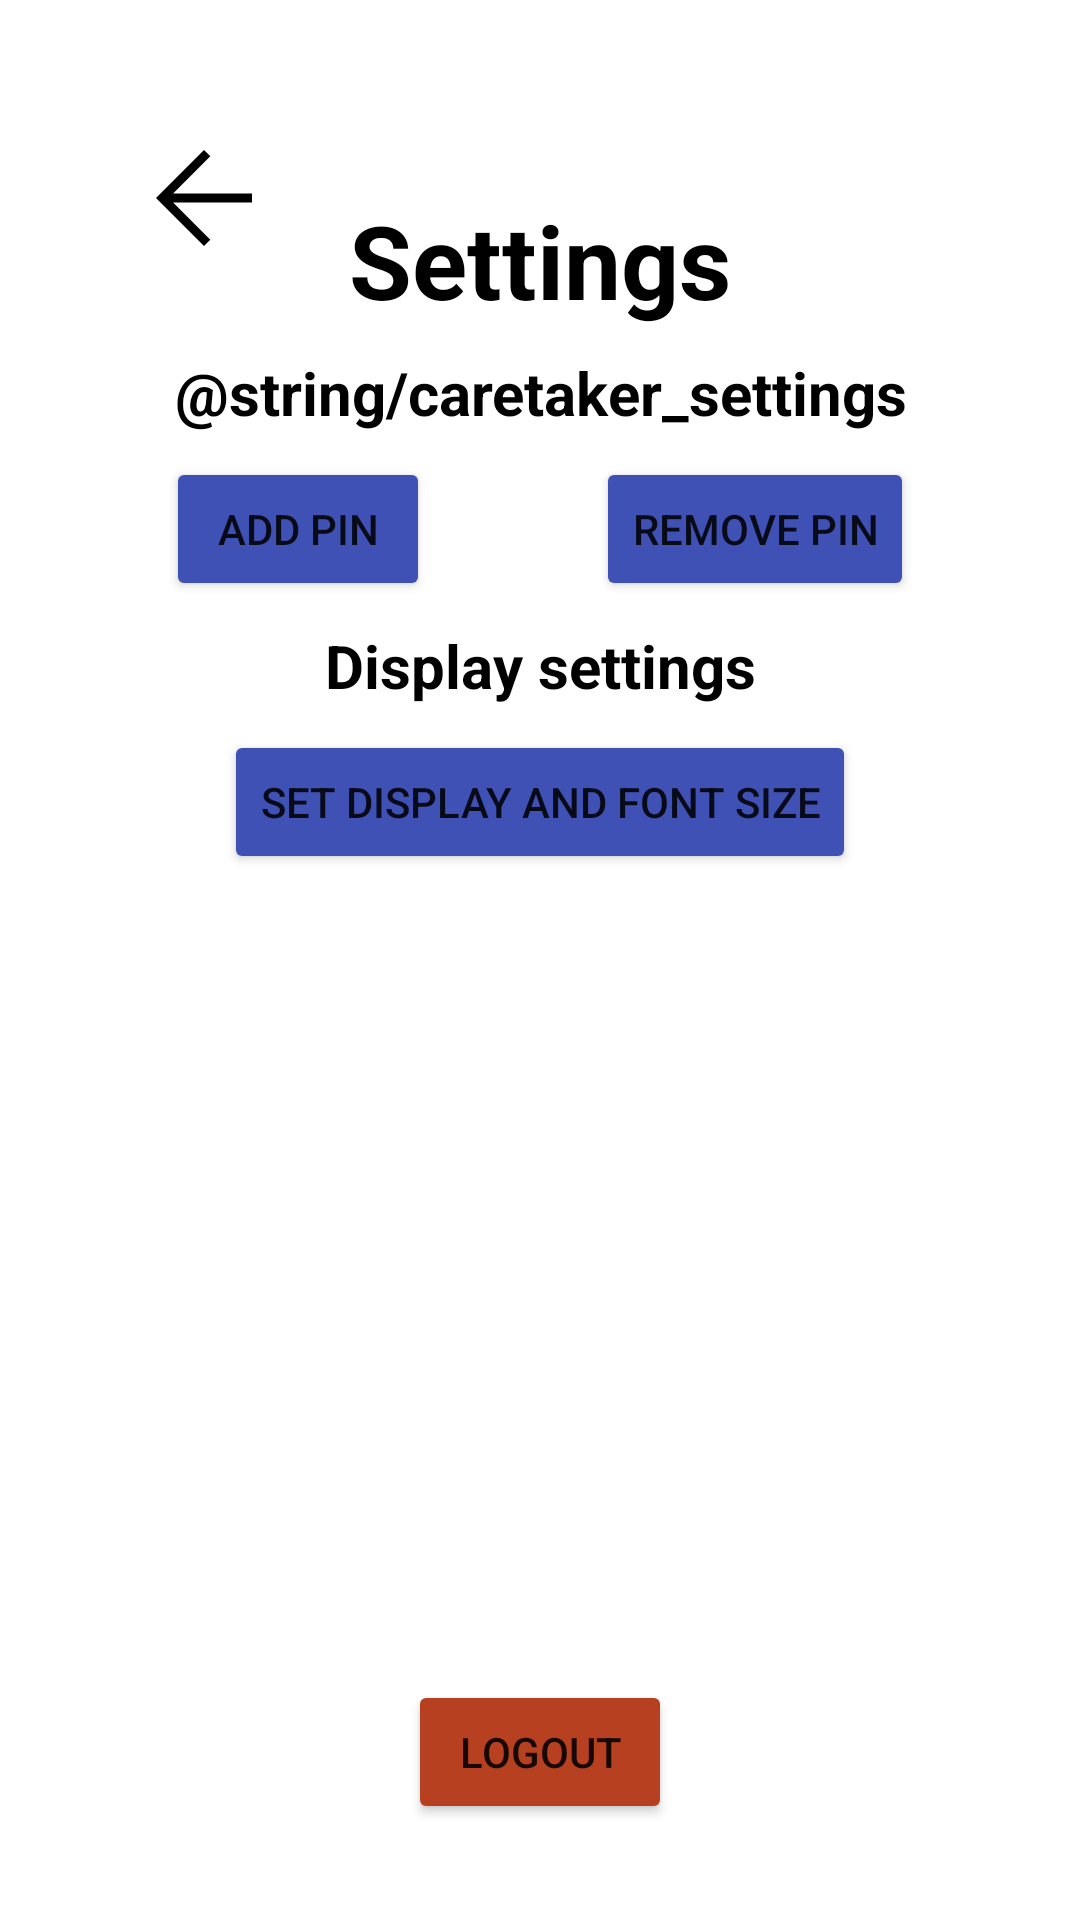

Point at icon controls on the screen. Image size 1080 x 1920, points as point (x, y).
Back: point (204, 198)
